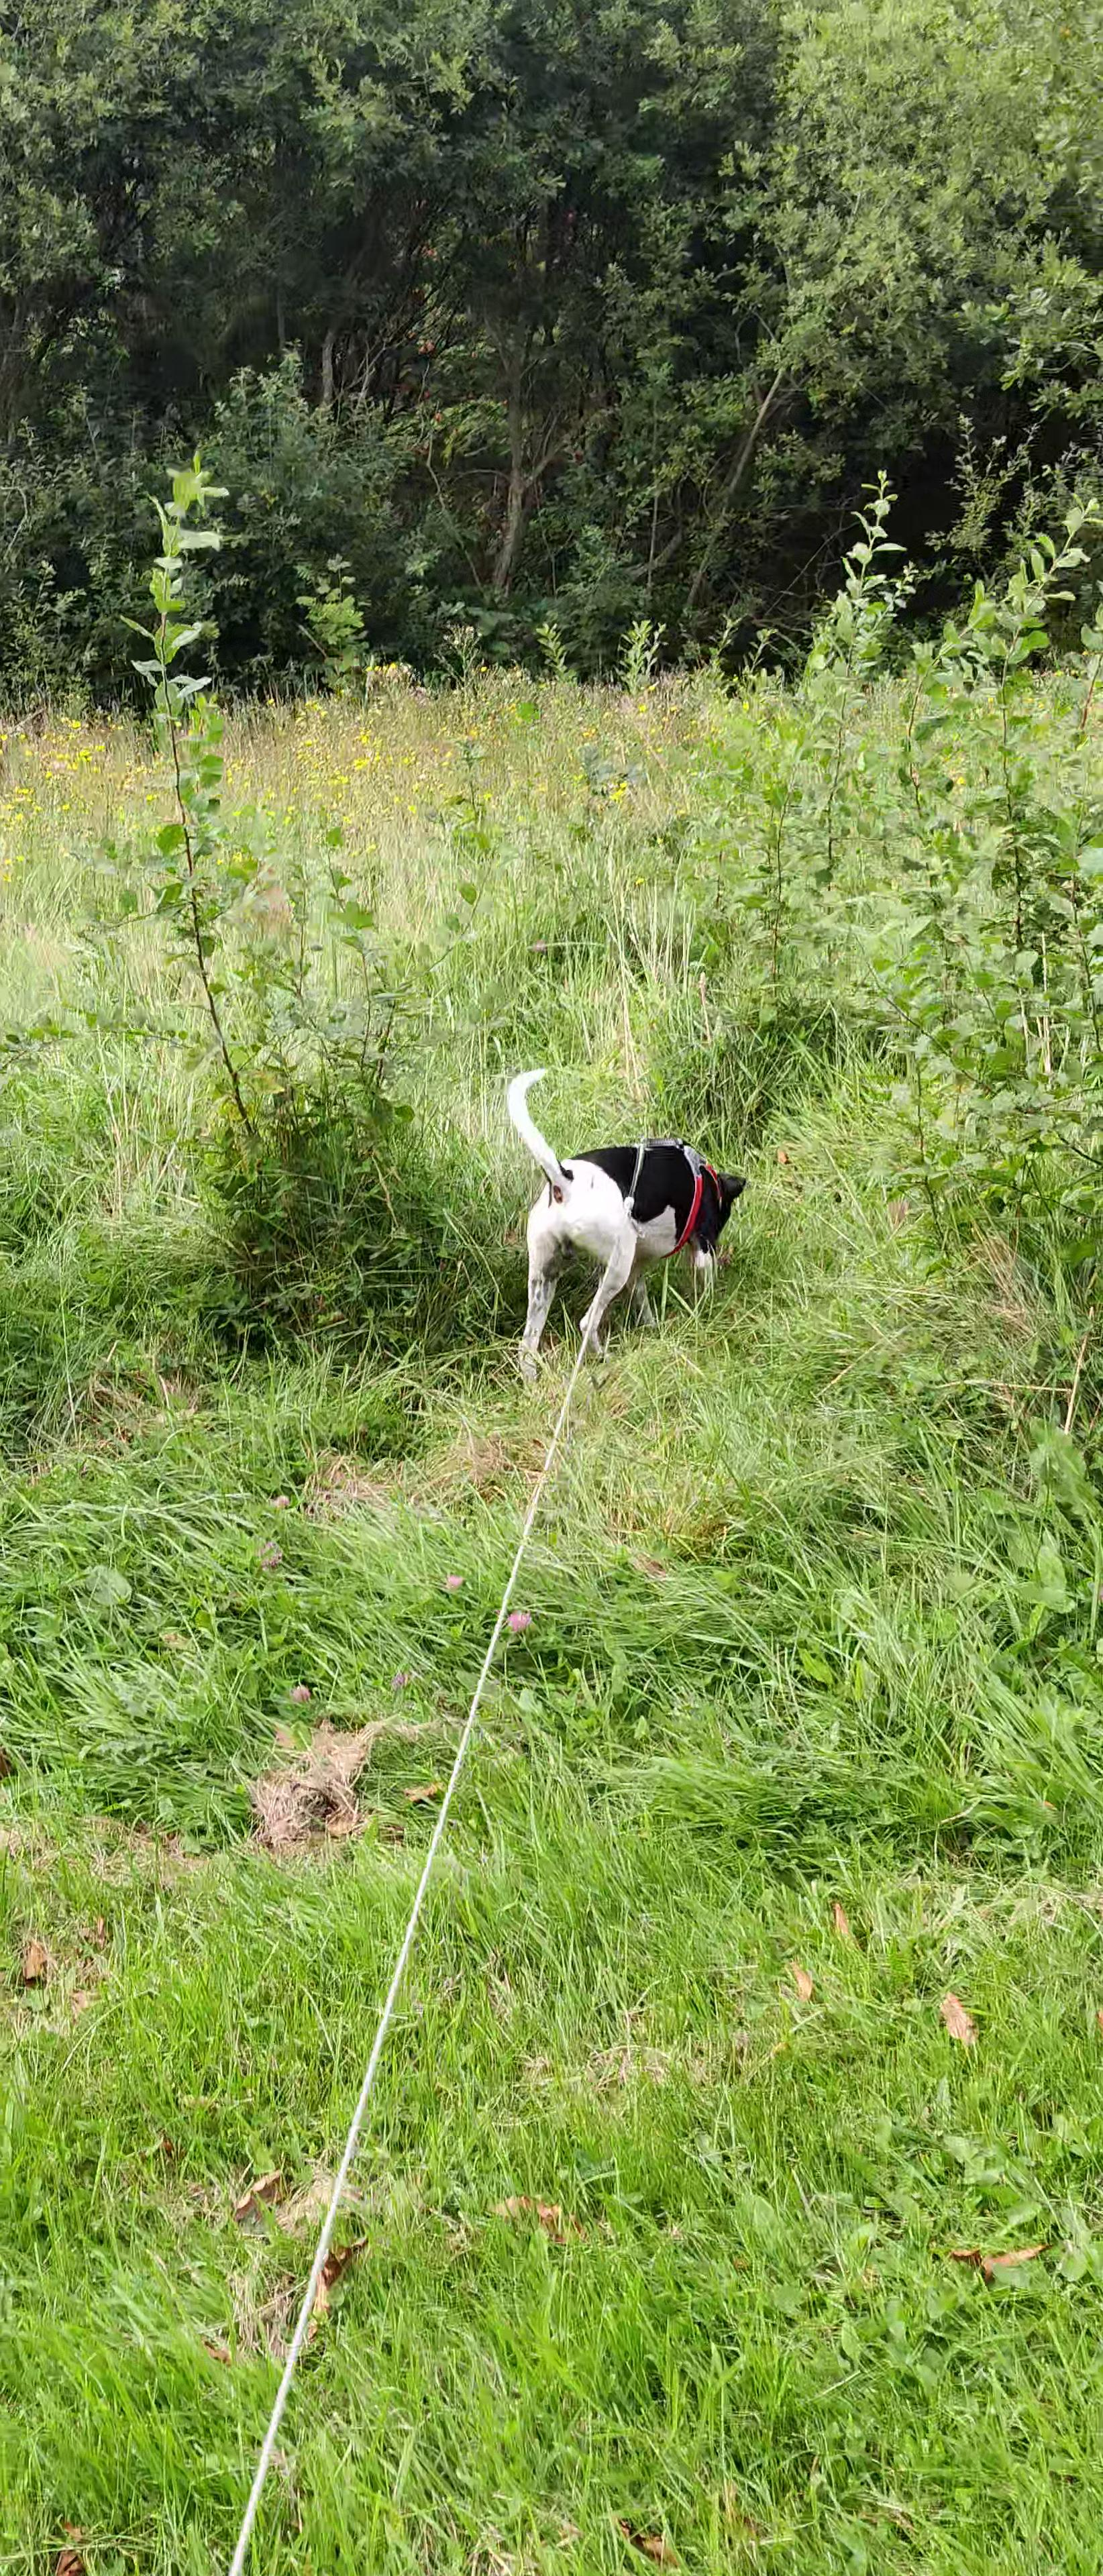Dog: (485, 1048, 753, 1383)
